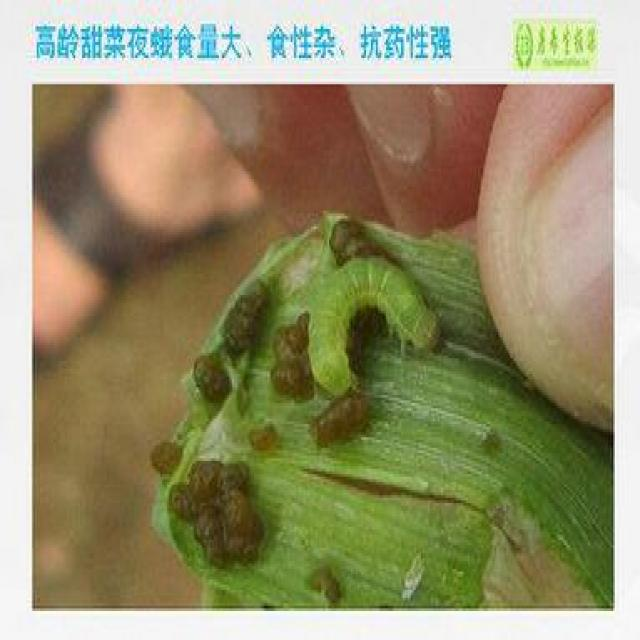BeetArmyWorm-Larva-: (304, 251, 443, 414)
